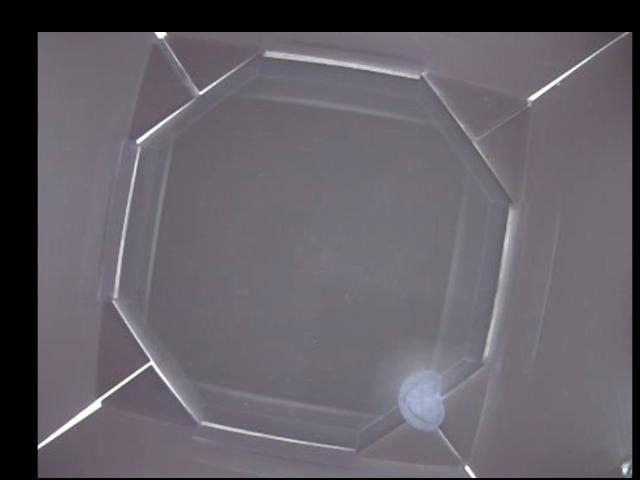Pebble: (400, 367, 443, 429)
